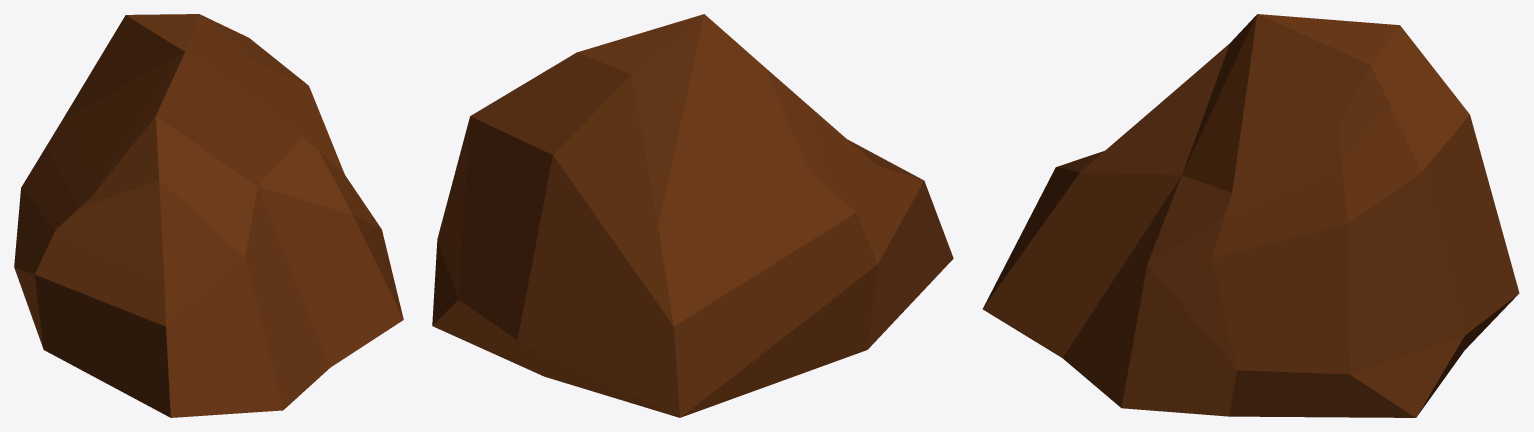
Rendered from roca_1.FBX.
3 renders of one model, left to right at view 1: azimuth 30°, elevation 25°; view 2: azimuth 150°, elevation 25°; view 3: azimuth 270°, elevation 25°, orthographic. The views are drawn at different scales.
Parts seen in each view (by area): view 1: Sphere003; view 2: Sphere003; view 3: Sphere003.
Part boxes in pixels (x1,y1,x2,y2): Sphere003: [14, 14, 403, 417]; Sphere003: [432, 14, 953, 417]; Sphere003: [982, 14, 1519, 417].
Size of the model in its own units: 7.5 by 5.6 by 8.71.
